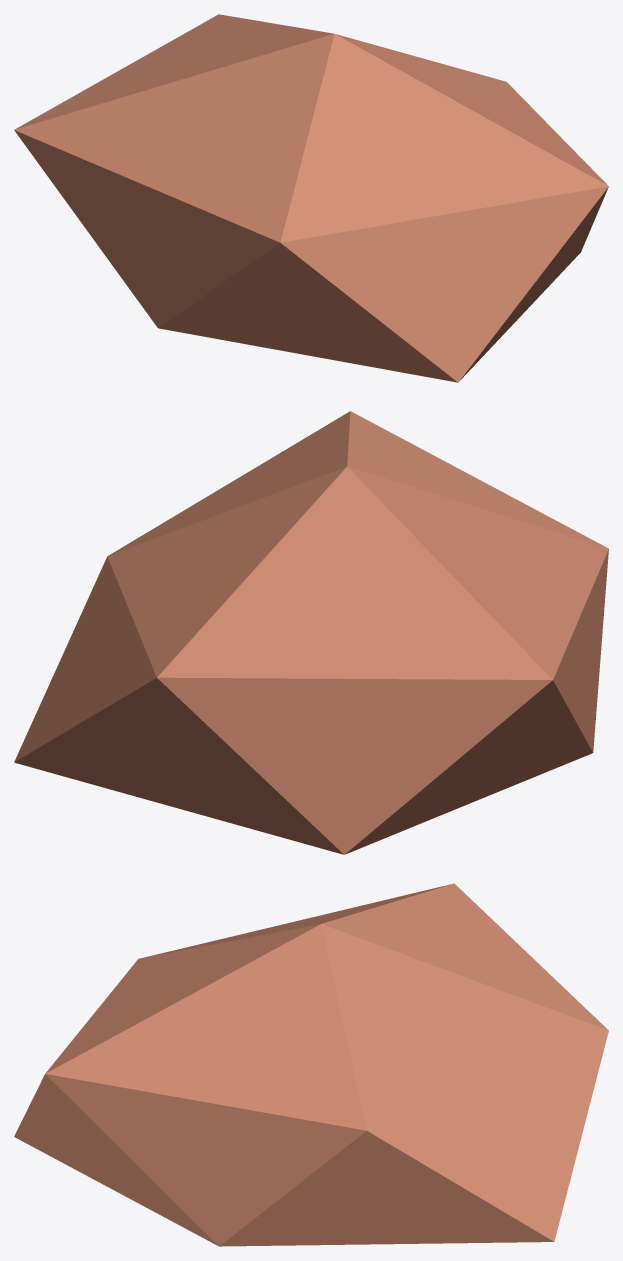
The model's file is Rock_Boulder_S.fbx.
3 renders of one model, top to bottom at view 1: azimuth 30°, elevation 25°; view 2: azimuth 150°, elevation 25°; view 3: azimuth 270°, elevation 25°, orthographic. The views are drawn at different scales.
Visible parts, largest first — view 1: Rock_Boulder_S; view 2: Rock_Boulder_S; view 3: Rock_Boulder_S.
Part boxes in pixels (box(x1,y1,x2,y2)): Rock_Boulder_S: box(14, 14, 608, 382); Rock_Boulder_S: box(14, 411, 608, 854); Rock_Boulder_S: box(14, 883, 608, 1246).
Size of the model in its own units: 0.9764 by 0.4754 by 1.13.
